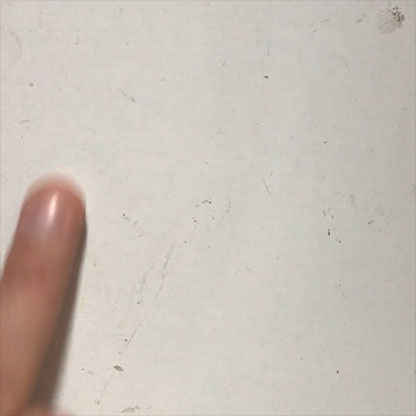fingertip: (11, 172, 101, 262)
